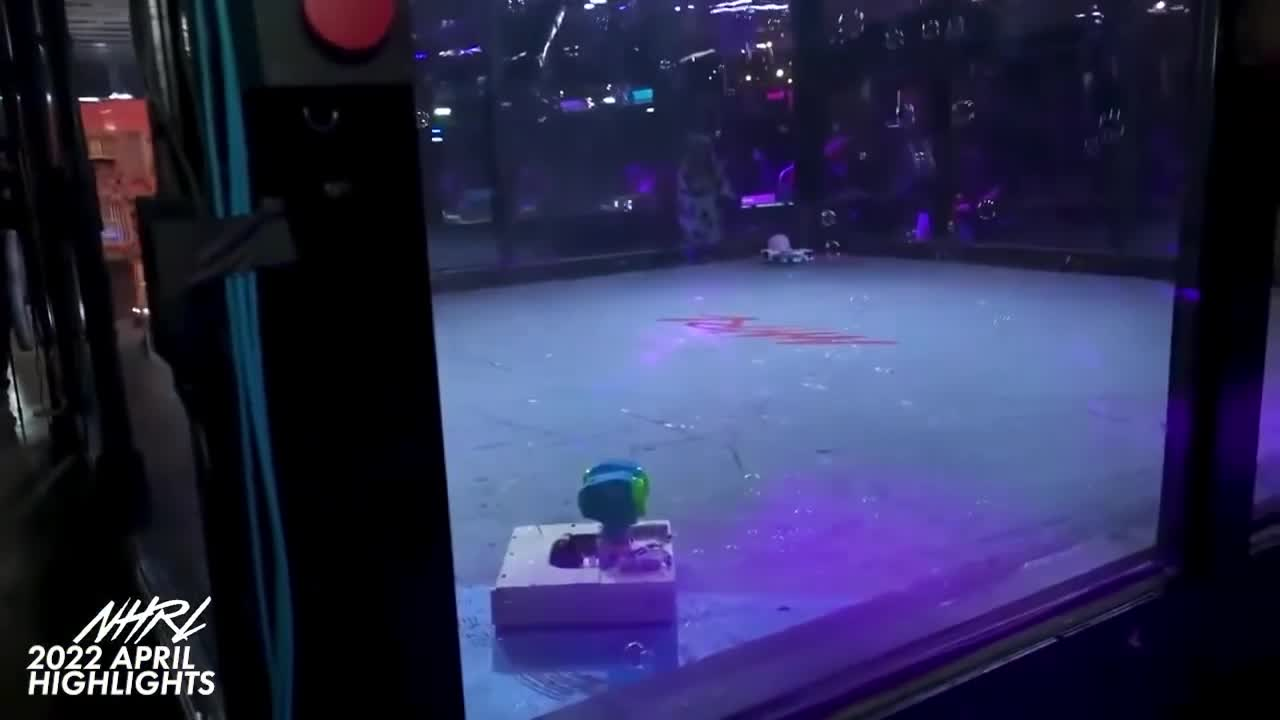combatbot: (488, 461, 679, 635), (762, 235, 816, 267)
